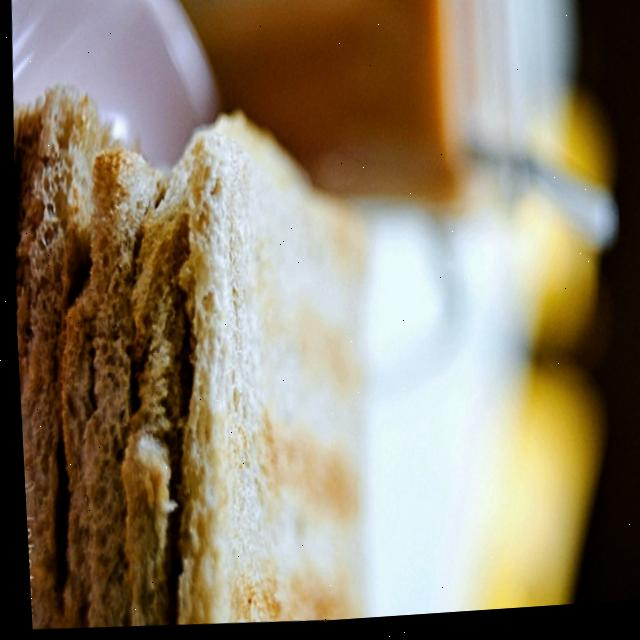面包点心: (6, 118, 413, 640)
